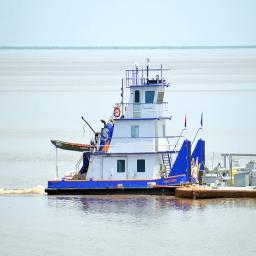tugboat: (44, 57, 210, 205)
